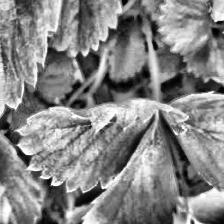Powdery Mildew Leaf: (14, 97, 174, 194), (163, 90, 224, 204)
